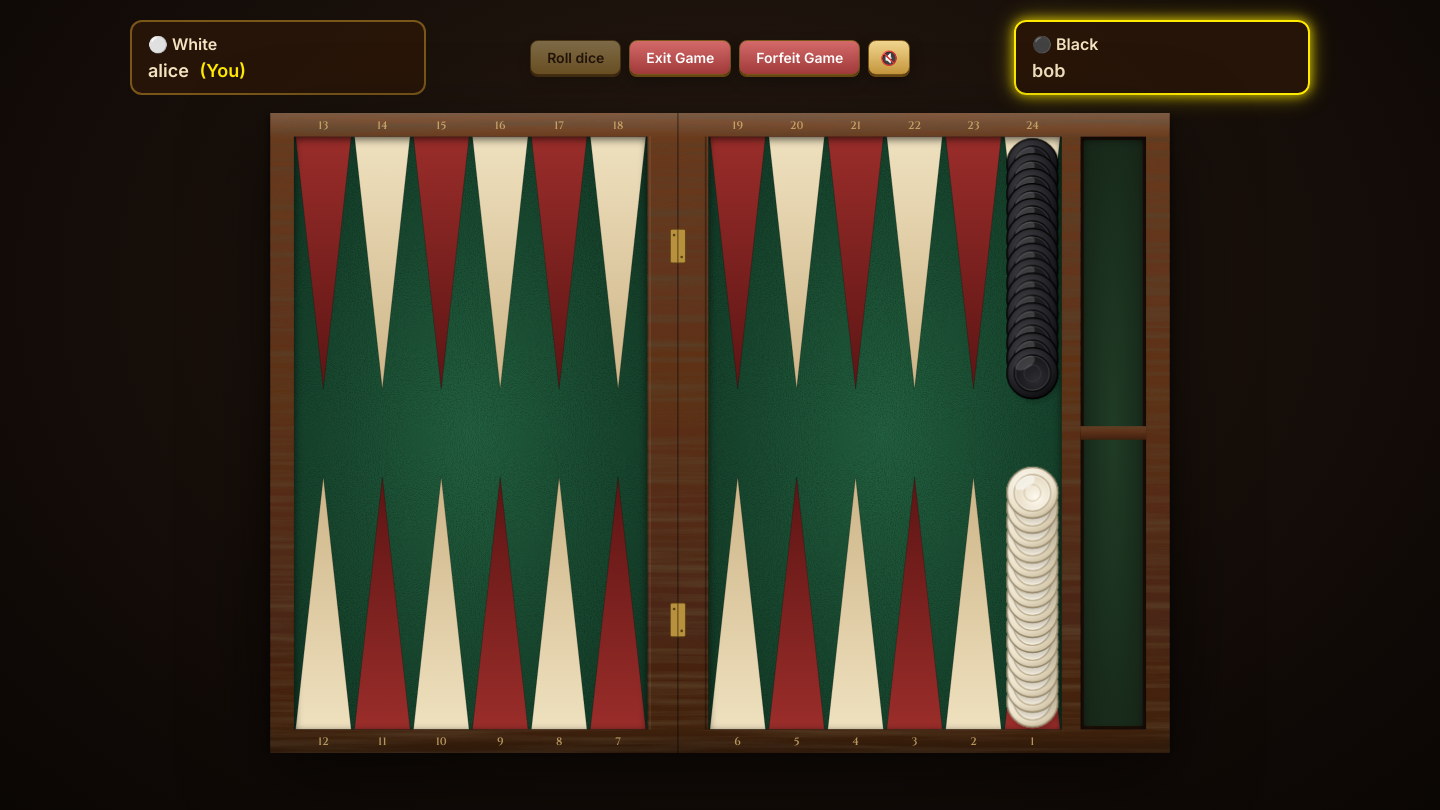
BoardComponent forfeiting › opens a modal with Cancel focused and sends nothing before confirmation
Click the button "Forfeit Game".
click(800, 58)  # box [739, 40, 860, 75]
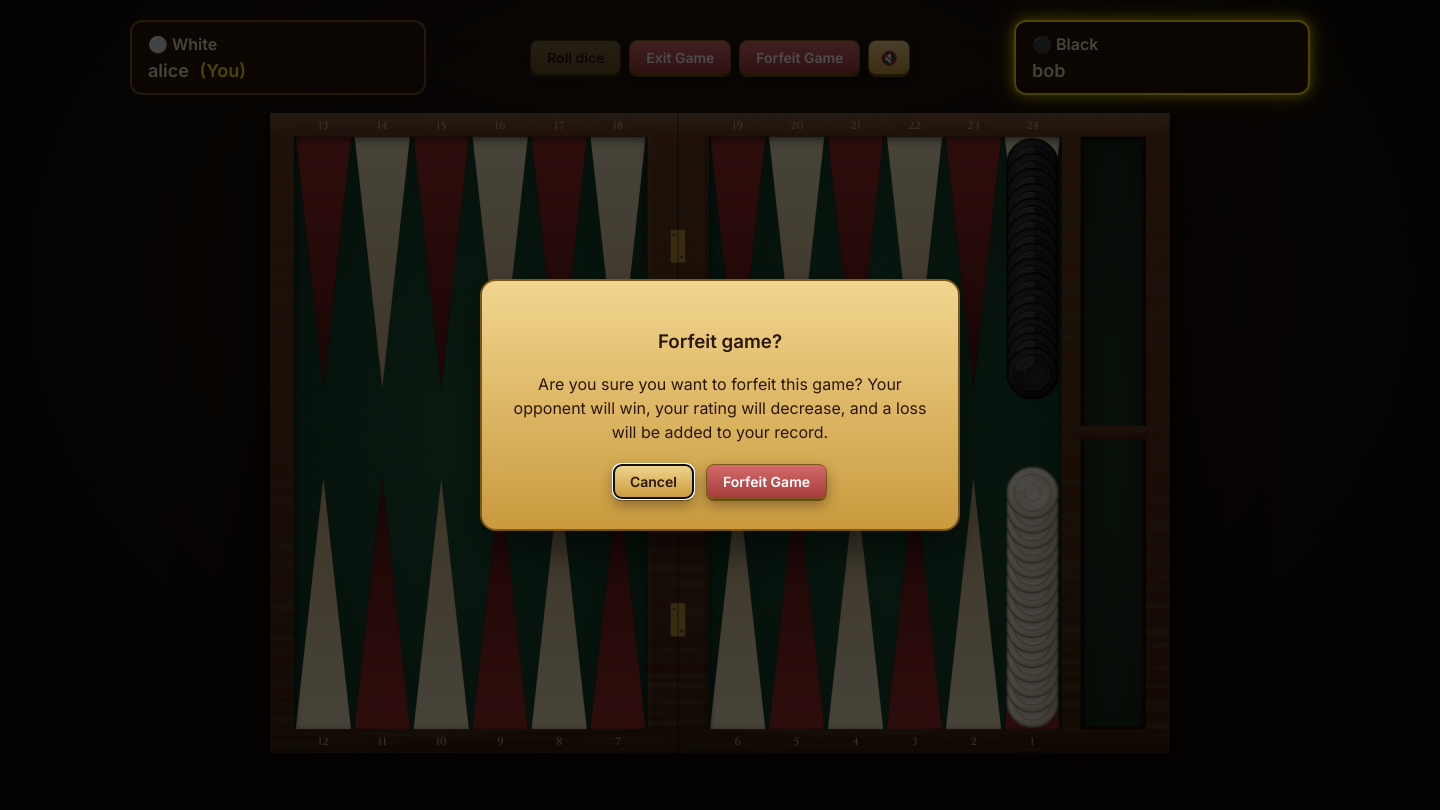
Now the dialog shows "Your opponent will win", box [514, 374, 926, 442]
